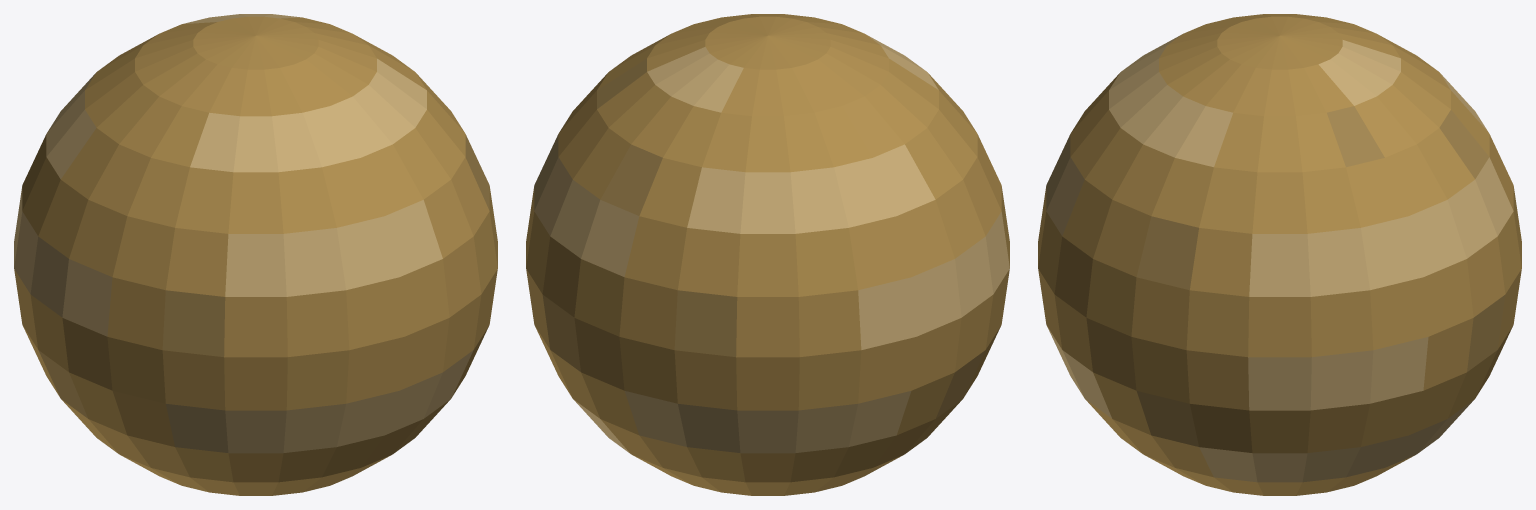
Rendered from planet.gltf.
The picture shows the model from 3 angles, left to right: view 1: azimuth 30°, elevation 25°; view 2: azimuth 150°, elevation 25°; view 3: azimuth 270°, elevation 25°; orthographic projection.
Parts seen in each view (by area): view 1: sphere; view 2: sphere; view 3: sphere.
Part boxes in pixels (bbox=[...]): sphere: bbox=[14, 14, 497, 495]; sphere: bbox=[526, 14, 1009, 495]; sphere: bbox=[1038, 14, 1521, 495].
Size of the model in its own units: 1 by 1 by 1.
Materials: 1 (1 with a texture image).
